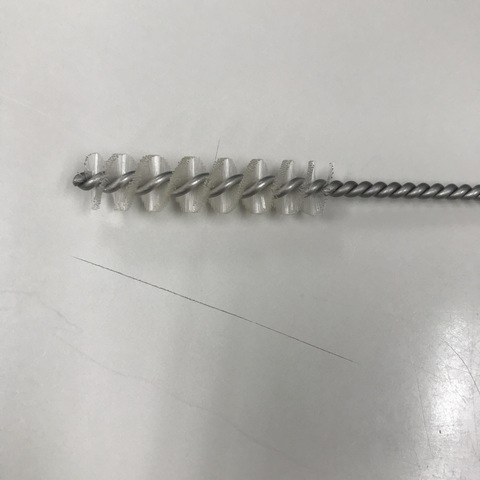Twist Brush-B: (67, 147, 480, 219)
